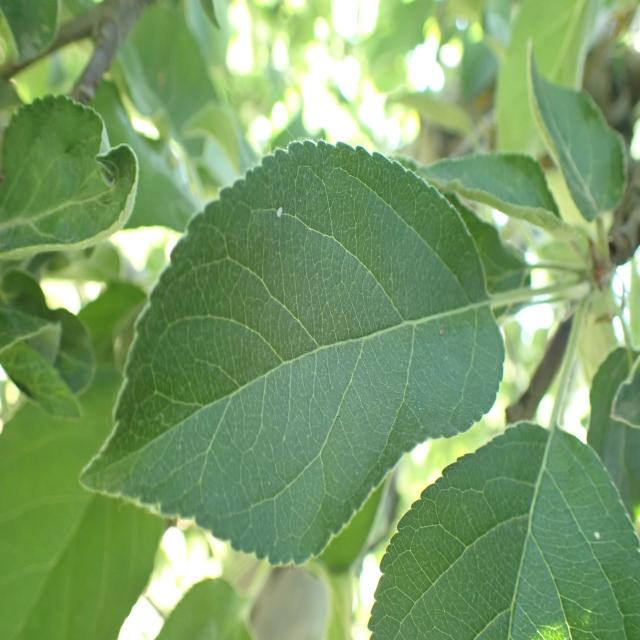healthy: (79, 138, 507, 568), (367, 420, 640, 640), (0, 375, 167, 640), (0, 93, 140, 259), (528, 37, 627, 223), (586, 346, 640, 514)
